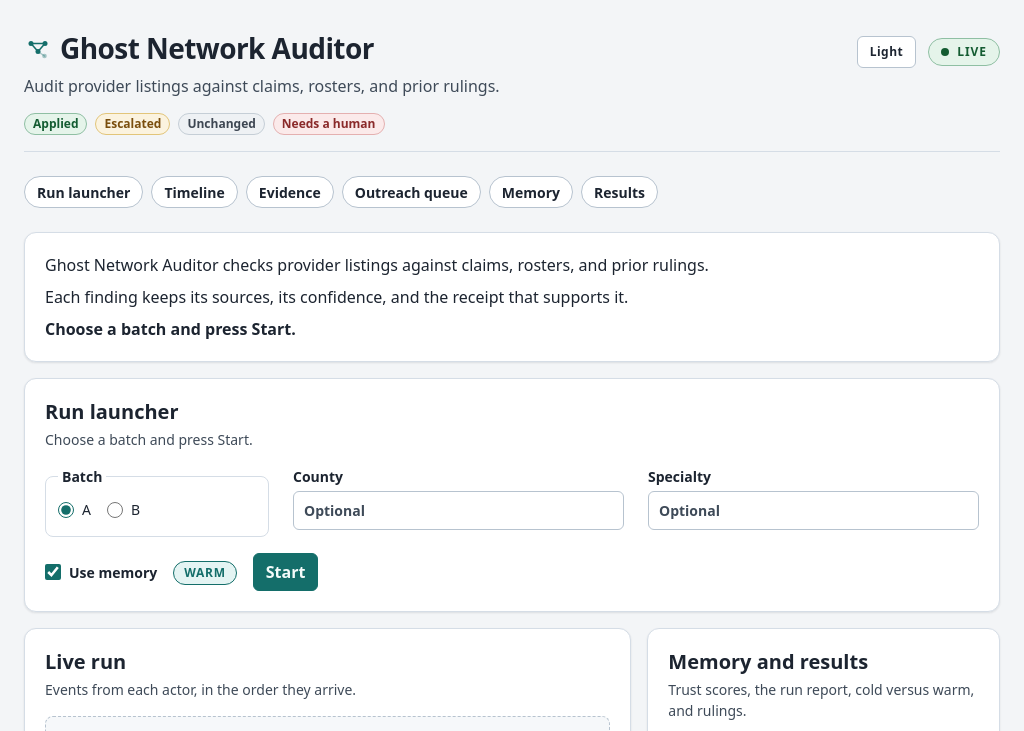
Test: demo path › shows the error when the report failed
This screenshot has width=1024, height=731.
Click the button "Start" at (286, 572), box [253,553,318,591]
(page scrolled)
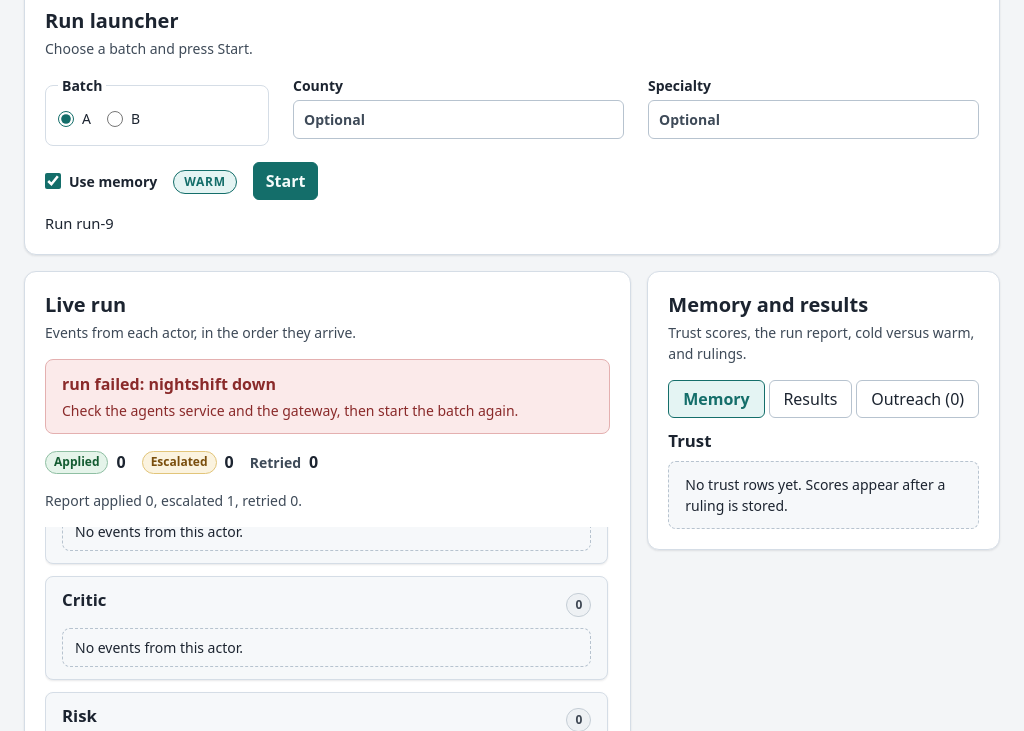
Result: the text "run failed: nightshift down" is shown at [62,374,276,396]
